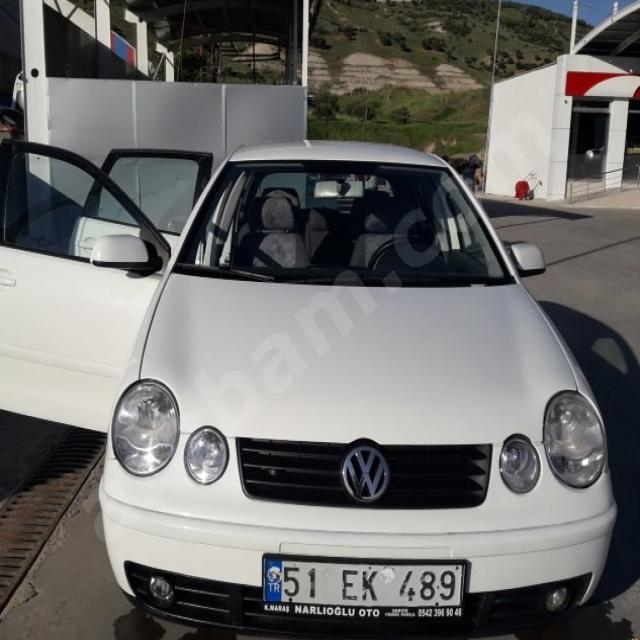license_plate: (263, 557, 467, 608)
